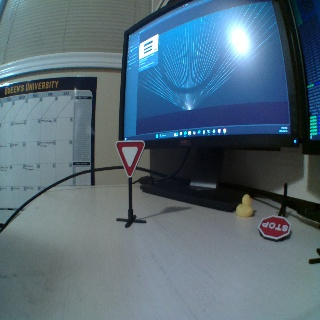duck_regular: (237, 192, 255, 217)
sign_stop: (260, 214, 291, 241)
sign_yield: (114, 138, 145, 174)
